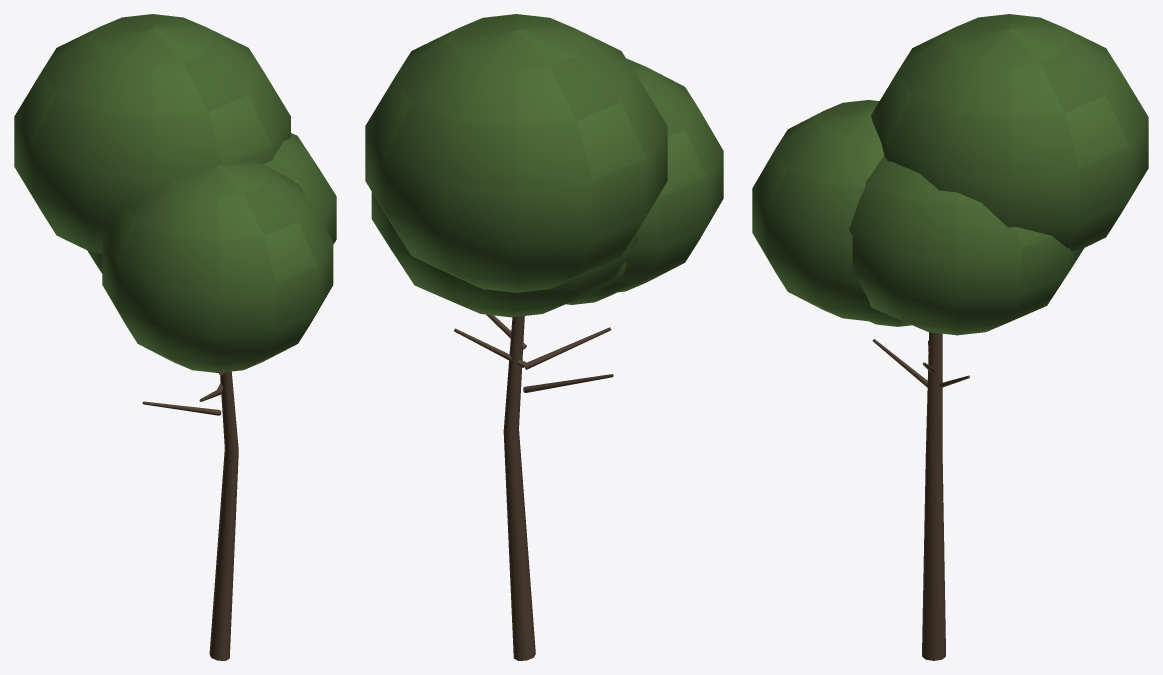
The model's file is tree_a.glb.
3 views of the same model, side by side, from view 1: azimuth 30°, elevation 25°; view 2: azimuth 150°, elevation 25°; view 3: azimuth 270°, elevation 25° (orthographic). The views are drawn at different scales.
Parts seen in each view (by area): view 1: tree_a; view 2: tree_a; view 3: tree_a.
Boxes of the visible parts, left/top/right/bottom form: tree_a: left=14, top=14, right=336, bottom=660; tree_a: left=365, top=14, right=723, bottom=660; tree_a: left=752, top=14, right=1148, bottom=660.
Bounding box in the file's own units: 5.02 × 11.17 × 6.55.
Materials: 2 (2 with a texture image).
